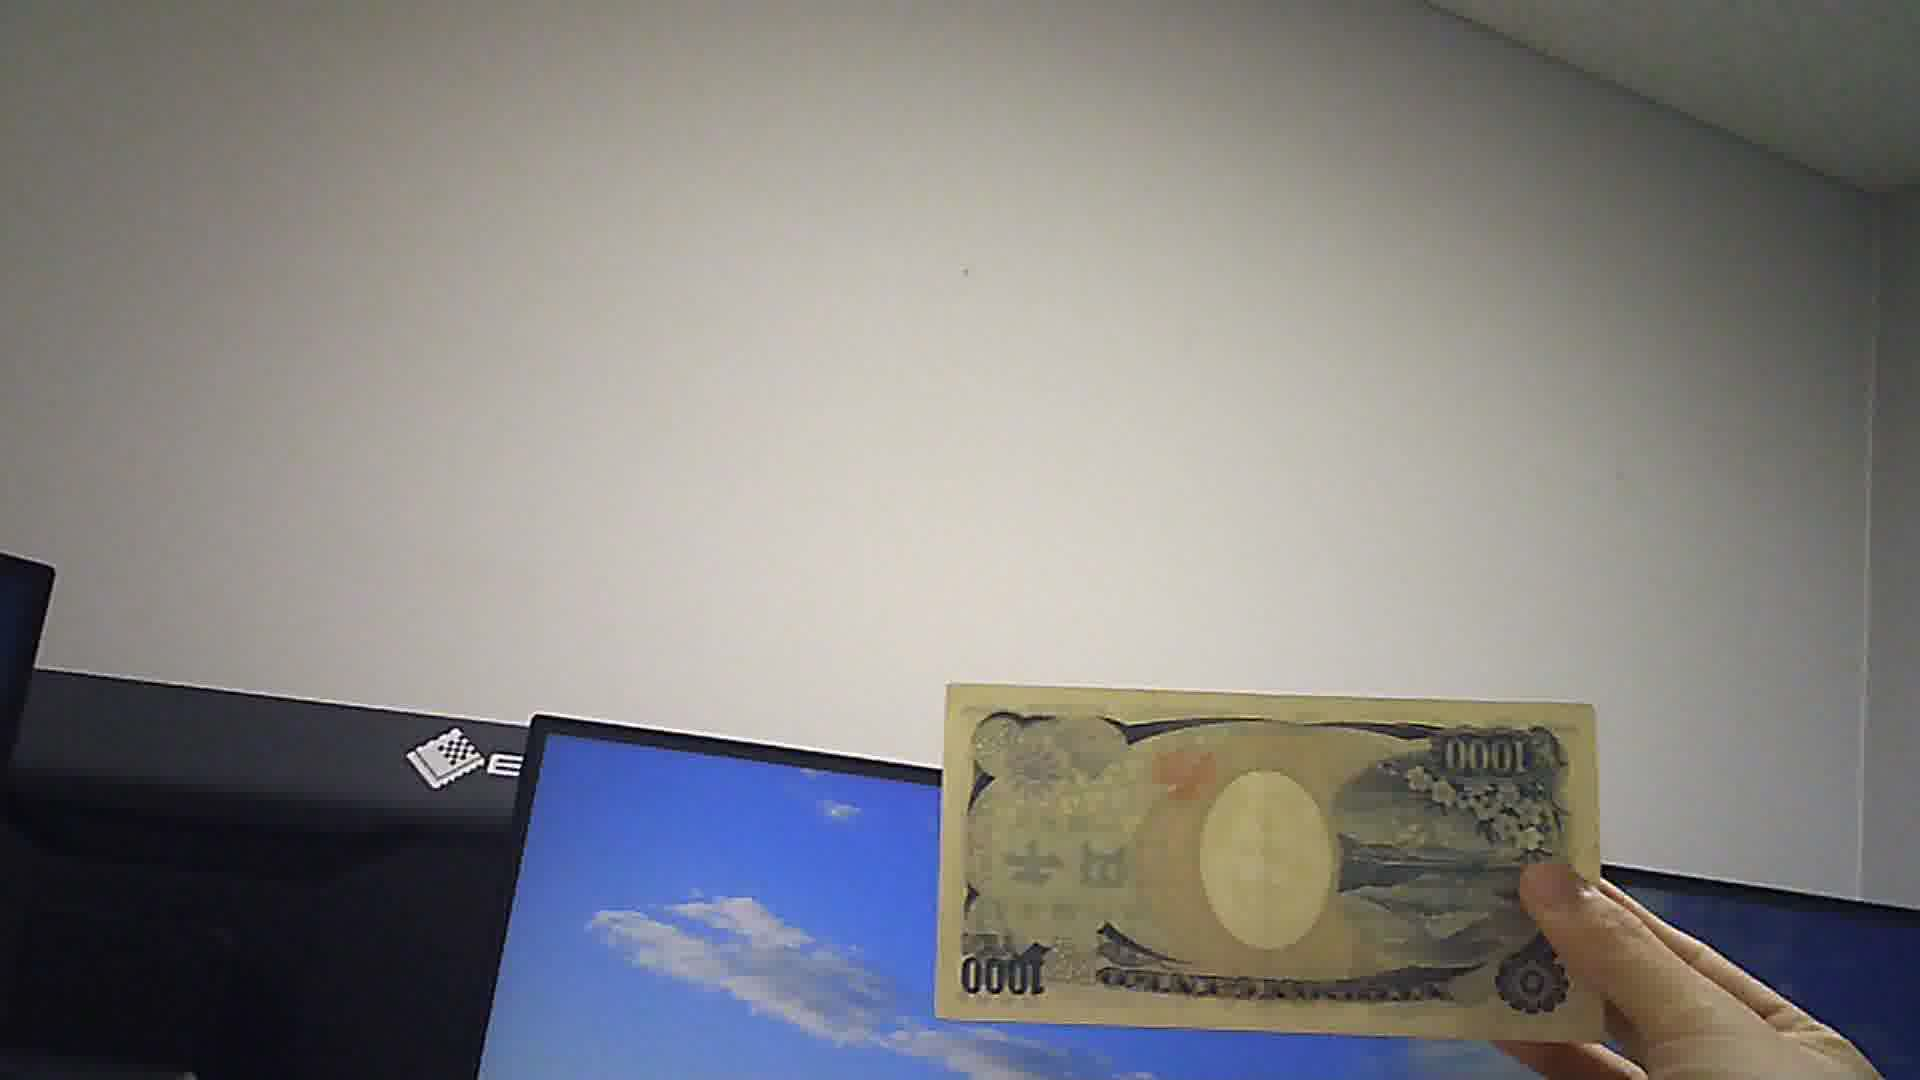1,000 Yen: (922, 673, 1609, 1040)
